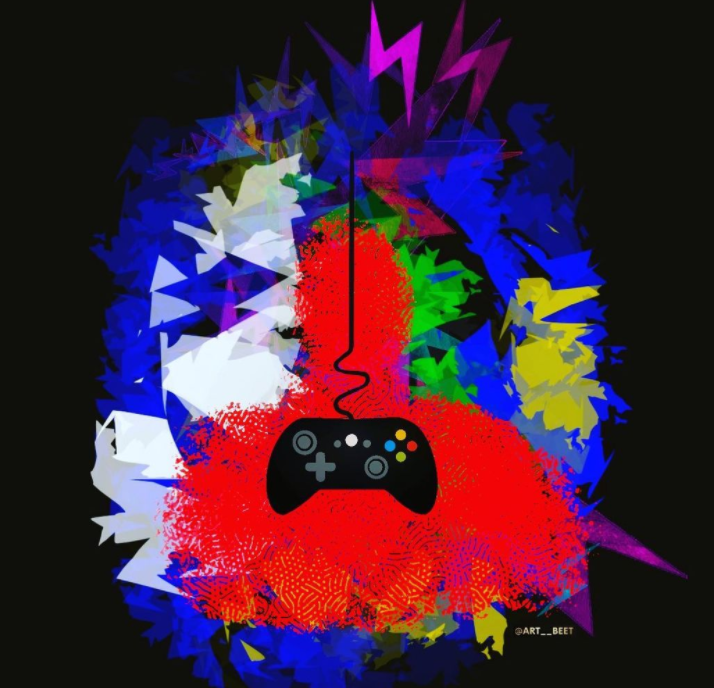gamingconsole: (268, 417, 440, 518)
